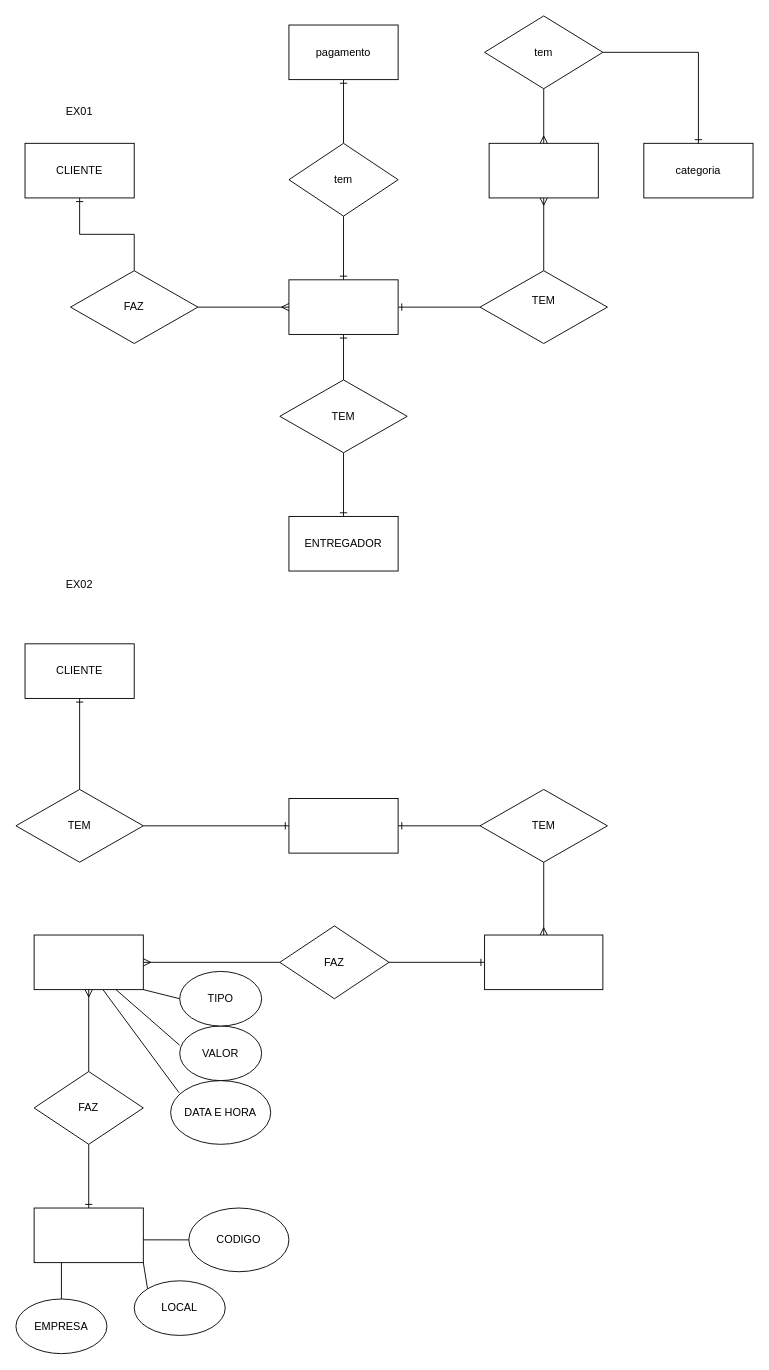
This 769x1370 diagram has some shape labels left out. The shapes that lost their labels are listed below. From the top down, each one's box as (x1, y1, x2, y2) in pixels, then its label:
(488, 142, 598, 198): PRODUTO
(288, 279, 398, 334): ENCOMENDA
(288, 798, 398, 853): CONTA
(33, 934, 143, 990): MOVIMENTO
(484, 934, 603, 990): CARTÃO
(33, 1207, 143, 1263): TPA
